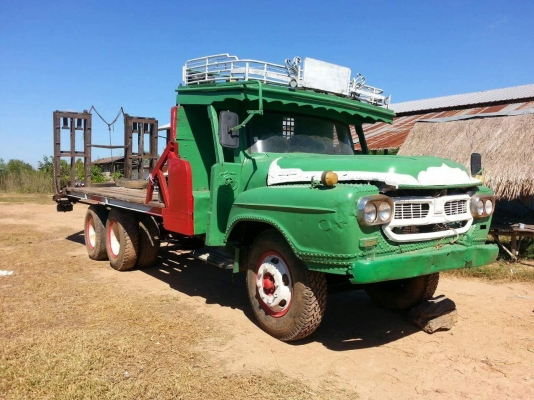truck: (53, 70, 501, 344)
